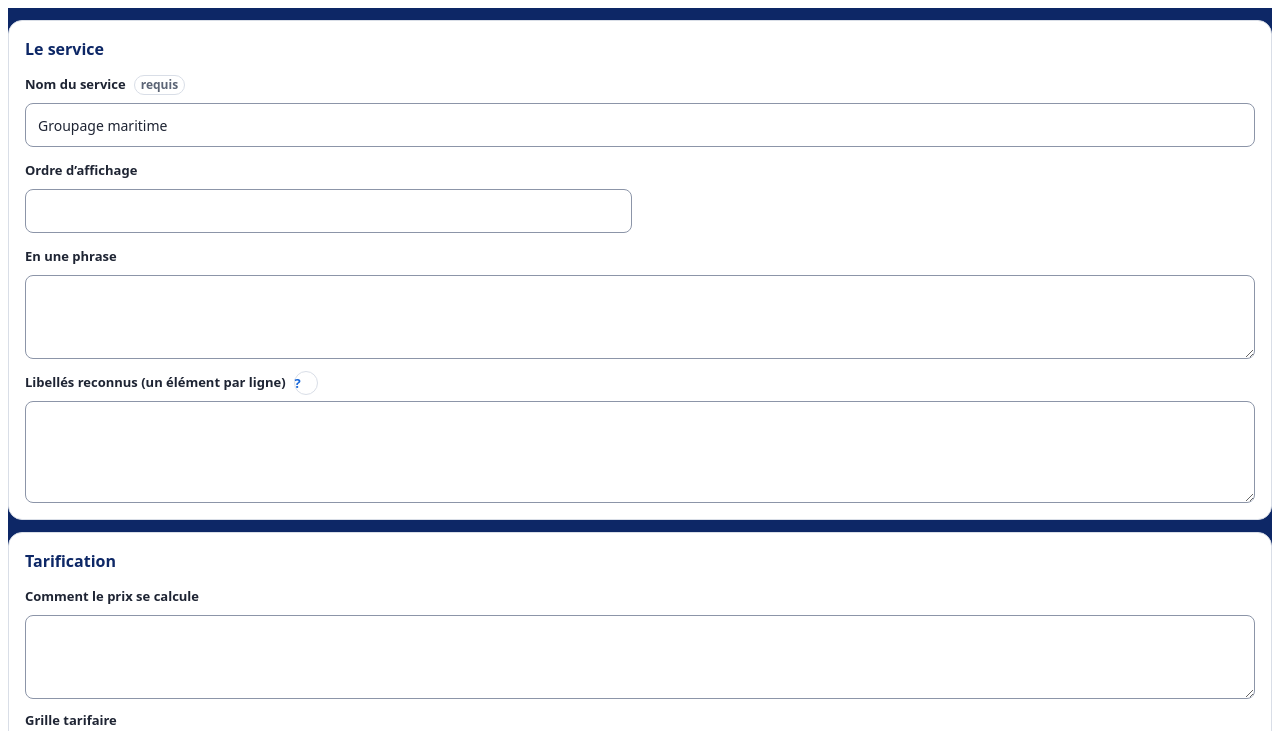
Test case: EditeurFiche › enregistre après 800 ms de pause et indique l’état
Type "Départ chaque mois" into the text box labelled "En une phrase" at (640, 317), box x1=25 y1=275 x2=1255 y2=359
Wait 900 ms
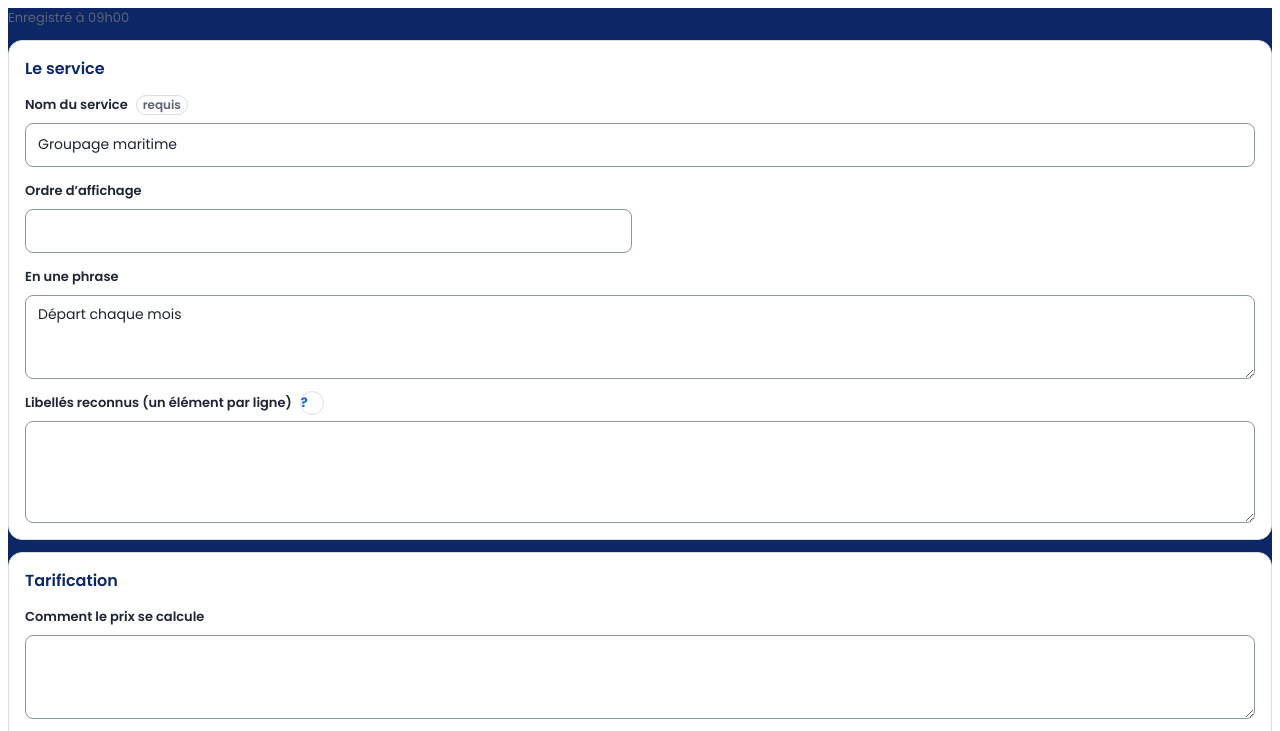
expect the text "Enregistré à 09h00" is shown: met, box x1=8 y1=8 x2=129 y2=27
